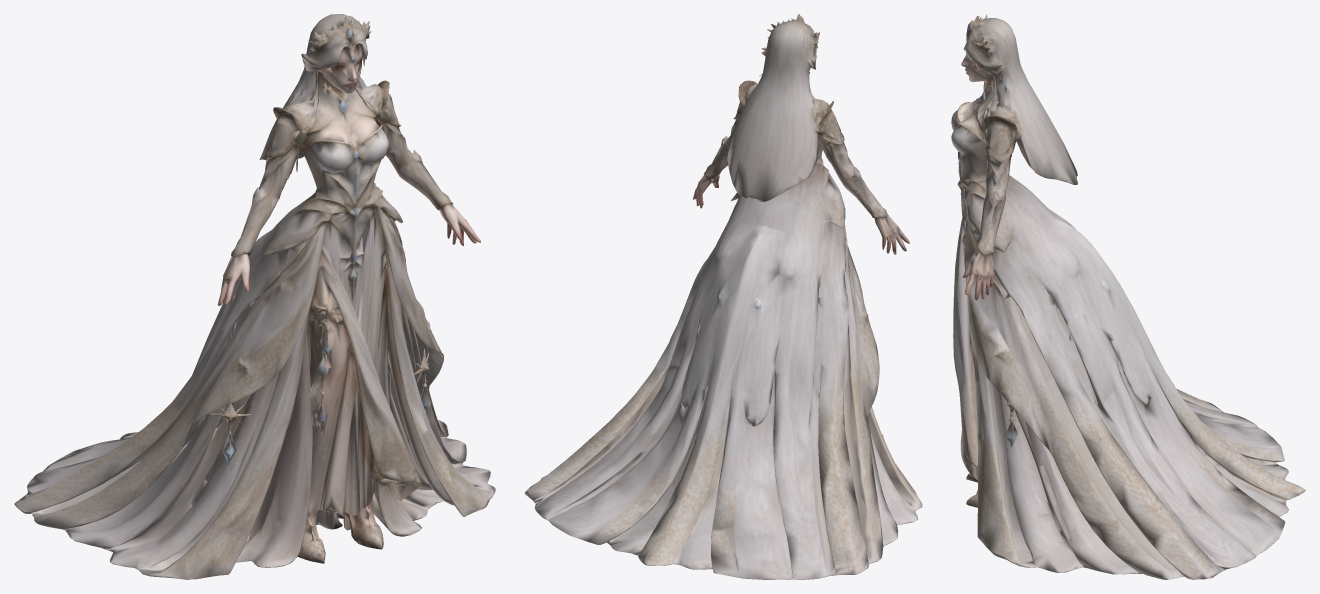
The model's file is elysium-battle.glb.
The picture shows the model from 3 angles, left to right: view 1: azimuth 30°, elevation 25°; view 2: azimuth 150°, elevation 25°; view 3: azimuth 270°, elevation 25°; orthographic projection. The views are drawn at different scales.
Visible parts, largest first — view 1: node_0; view 2: node_0; view 3: node_0.
Boxes of the visible parts, x1,y1,x2,y2 form: node_0: (14,14,495,579); node_0: (524,14,922,579); node_0: (951,14,1305,579).
Size of the model in its own units: 0.7364 by 0.9198 by 0.6206.
Materials: 1 (1 with a texture image).
